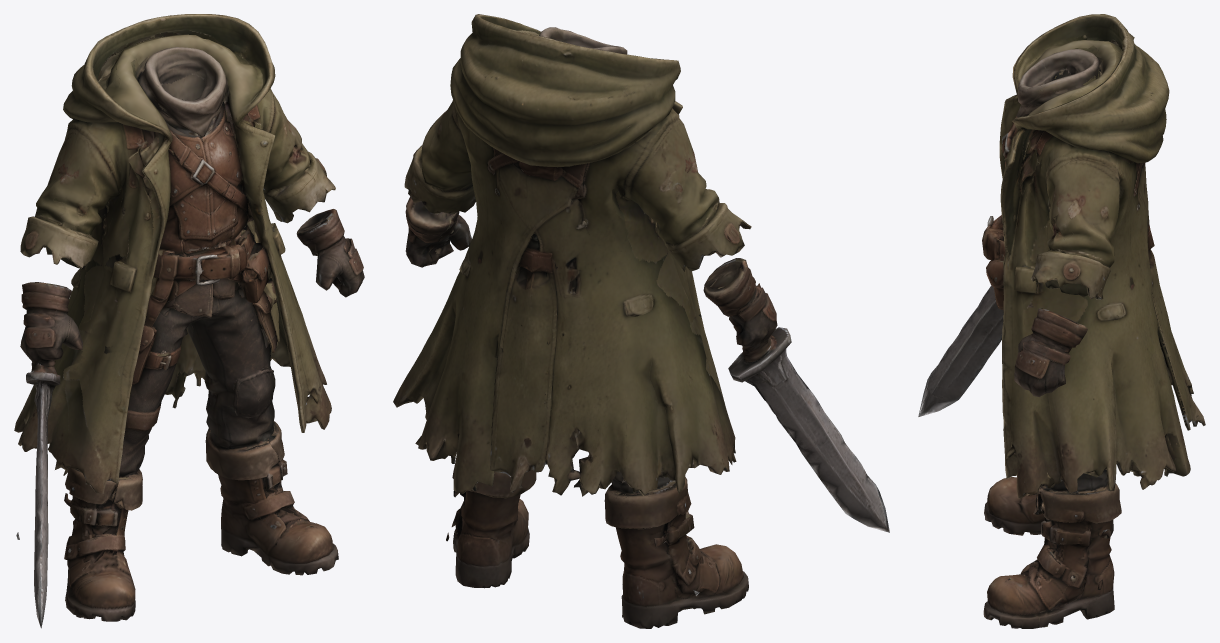
The model's file is outfit.glb.
3 views of the same model, side by side, from view 1: azimuth 30°, elevation 25°; view 2: azimuth 150°, elevation 25°; view 3: azimuth 270°, elevation 25° (orthographic). The views are drawn at different scales.
Parts seen in each view (by area): view 1: texture_mapping; view 2: texture_mapping; view 3: texture_mapping.
Boxes of the visible parts, x1,y1,x2,y2 form: texture_mapping: (14,14,364,628); texture_mapping: (393,14,889,628); texture_mapping: (918,14,1205,628).
Bounding box in the file's own units: 0.7521 × 0.9976 × 0.491.
Materials: 1 (1 with a texture image).
